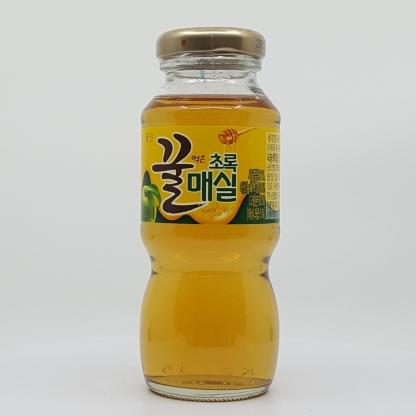-------180ML: (139, 27, 281, 401)
